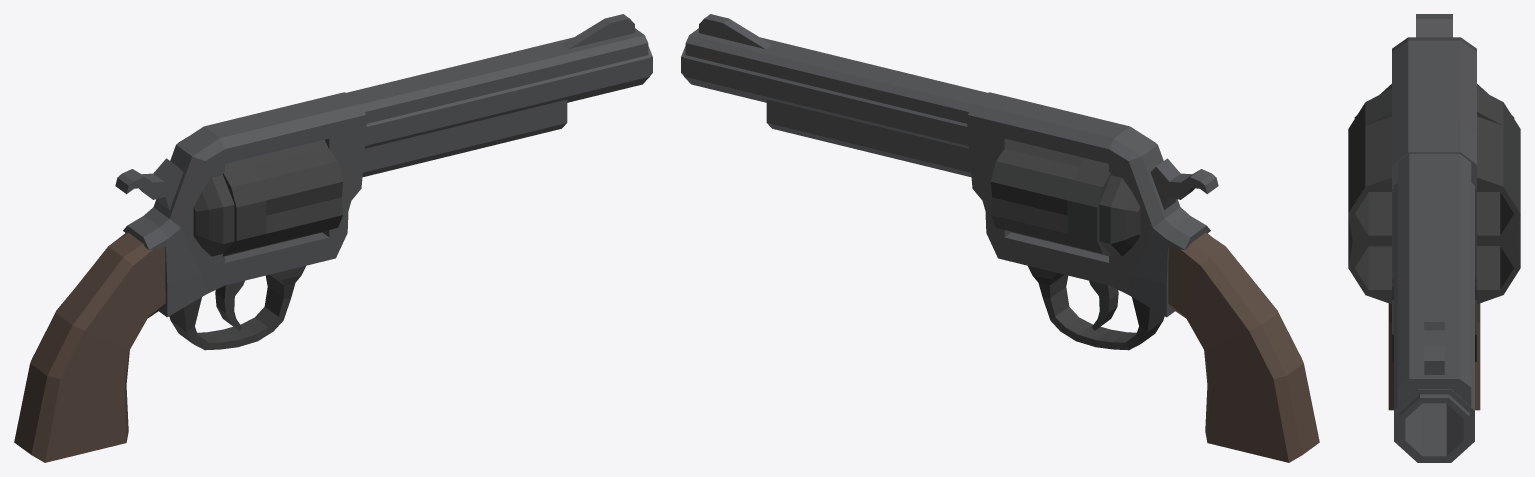
File: revolver.gltf
3 views of the same model, side by side, from view 1: azimuth 30°, elevation 25°; view 2: azimuth 150°, elevation 25°; view 3: azimuth 270°, elevation 25° (orthographic). The views are drawn at different scales.
Visible parts, largest first — view 1: revolver; view 2: revolver; view 3: revolver.
Boxes of the visible parts, <box> form: revolver: <box>14,14,652,462</box>; revolver: <box>681,14,1319,462</box>; revolver: <box>1348,14,1520,462</box>.
Bounding box in the file's own units: 0.2378 × 0.1068 × 0.0353.
